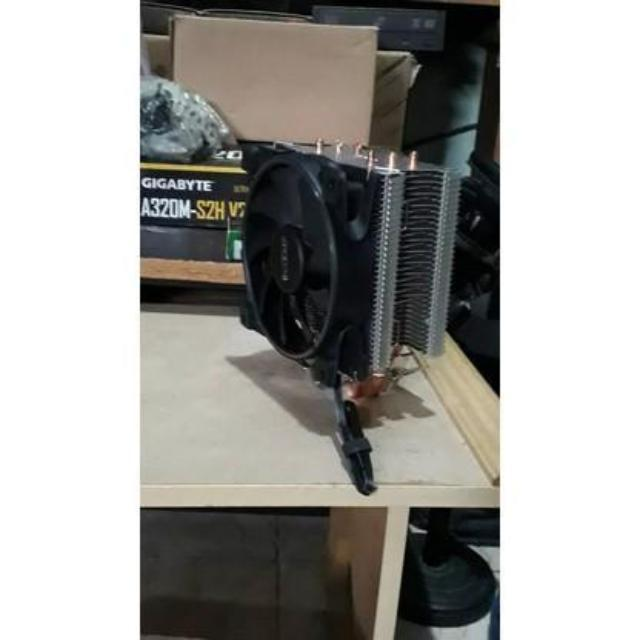CPU_Fan: (240, 126, 462, 398)
